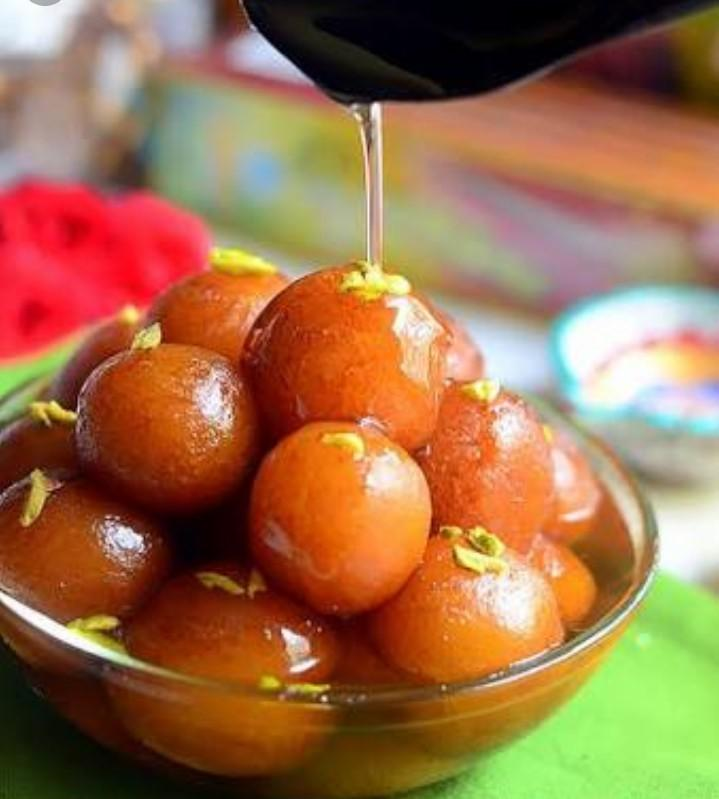GulabJamun: (109, 564, 341, 777), (366, 523, 562, 755), (251, 256, 460, 446), (245, 422, 434, 624), (0, 470, 164, 677), (73, 348, 258, 520), (423, 374, 559, 555), (145, 254, 299, 377), (54, 304, 145, 415), (3, 400, 114, 490), (519, 532, 598, 635), (542, 419, 600, 550)
